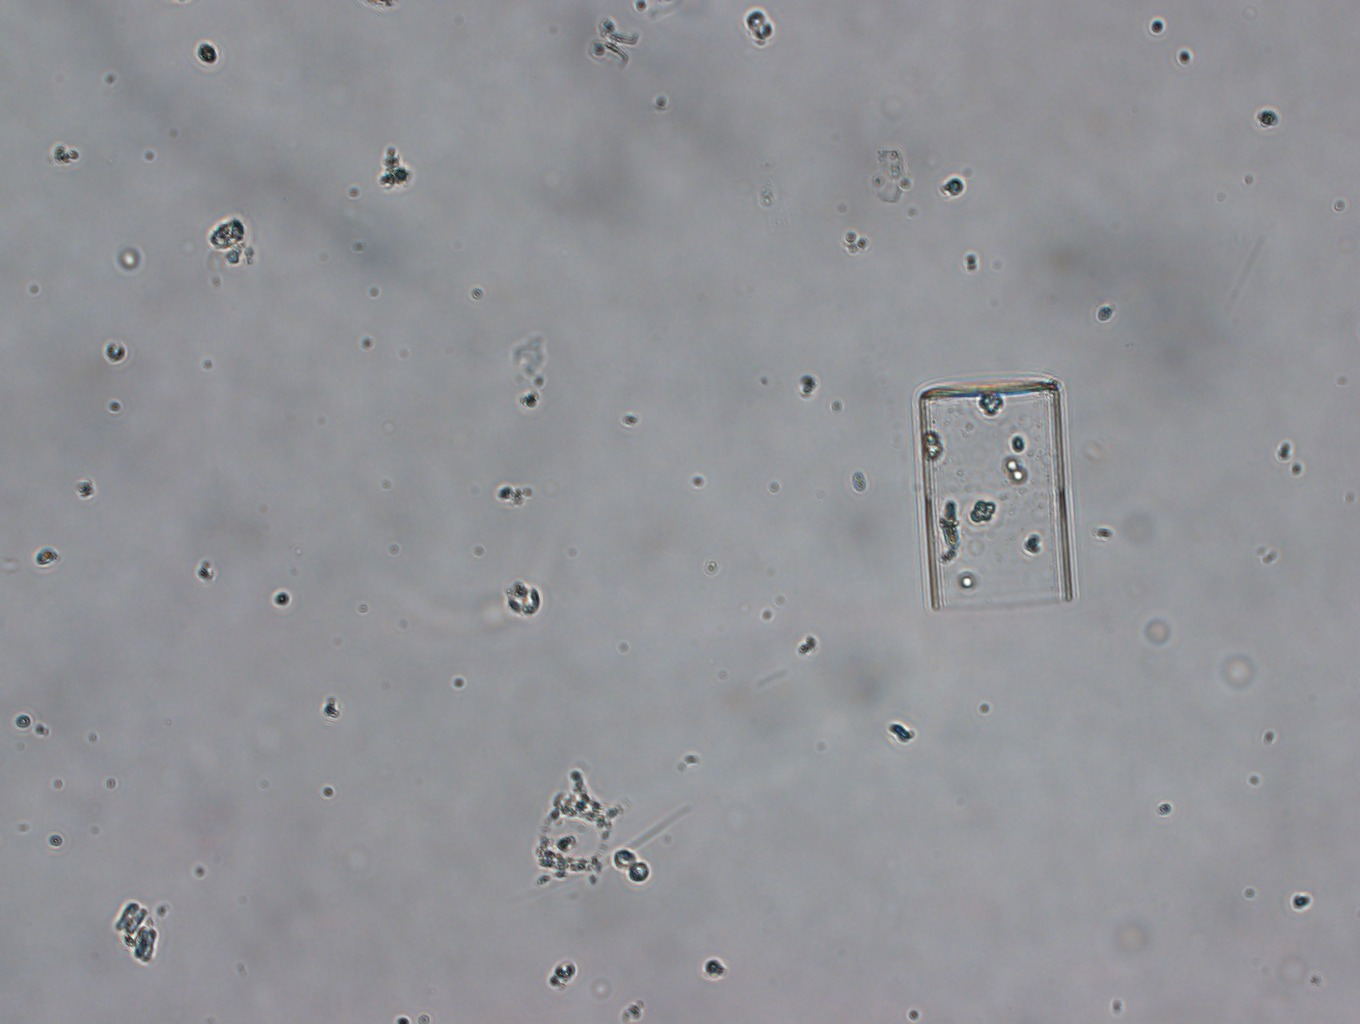guinardia flaccida: (918, 384, 1076, 613)
